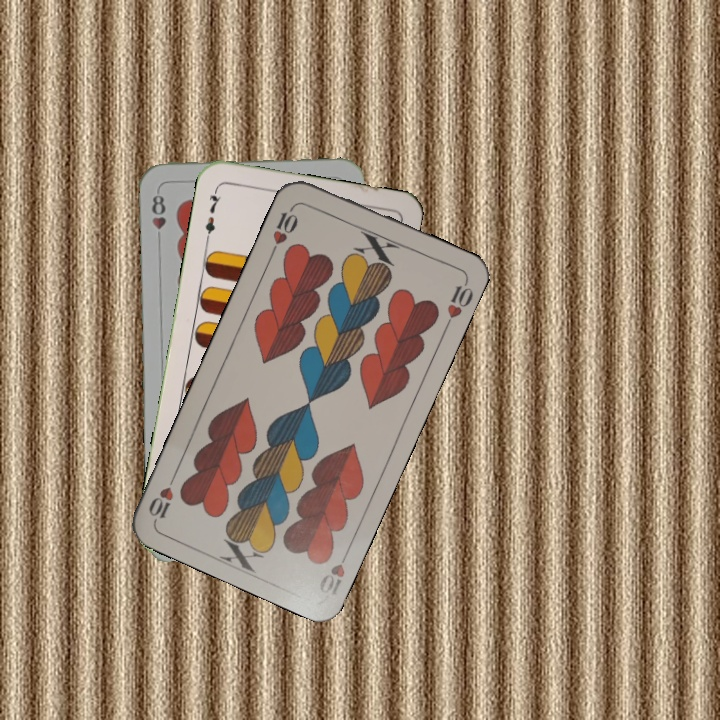E7: (200, 184, 224, 243)
H10: (314, 543, 353, 598), (267, 201, 301, 257)
H8: (148, 187, 168, 246)
